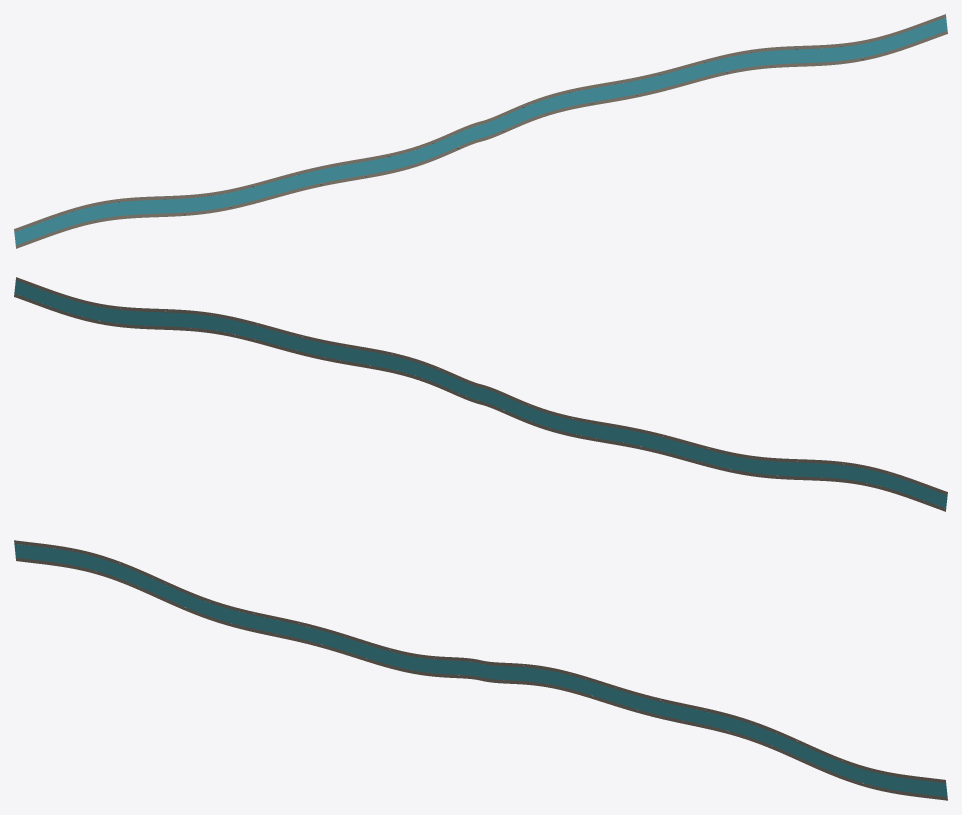
Rendered from elven_river_ribbon.glb.
The picture shows the model from 3 angles, top to bottom: view 1: azimuth 30°, elevation 25°; view 2: azimuth 150°, elevation 25°; view 3: azimuth 330°, elevation 25°; orthographic projection.
Visible parts, largest first — view 1: RiverWater, RiverBanks; view 2: RiverWater, RiverBanks; view 3: RiverWater, RiverBanks.
Part boxes in pixels (x1=…): RiverWater: x1=14, y1=17, x2=947, y2=245; RiverBanks: x1=14, y1=14, x2=947, y2=248; RiverWater: x1=14, y1=280, x2=947, y2=508; RiverBanks: x1=14, y1=277, x2=947, y2=511; RiverWater: x1=14, y1=543, x2=947, y2=797; RiverBanks: x1=14, y1=540, x2=947, y2=800.
Bounding box in the file's own units: 641 × 30.12 × 0.81.
